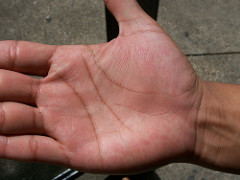palm: (41, 39, 186, 167)
